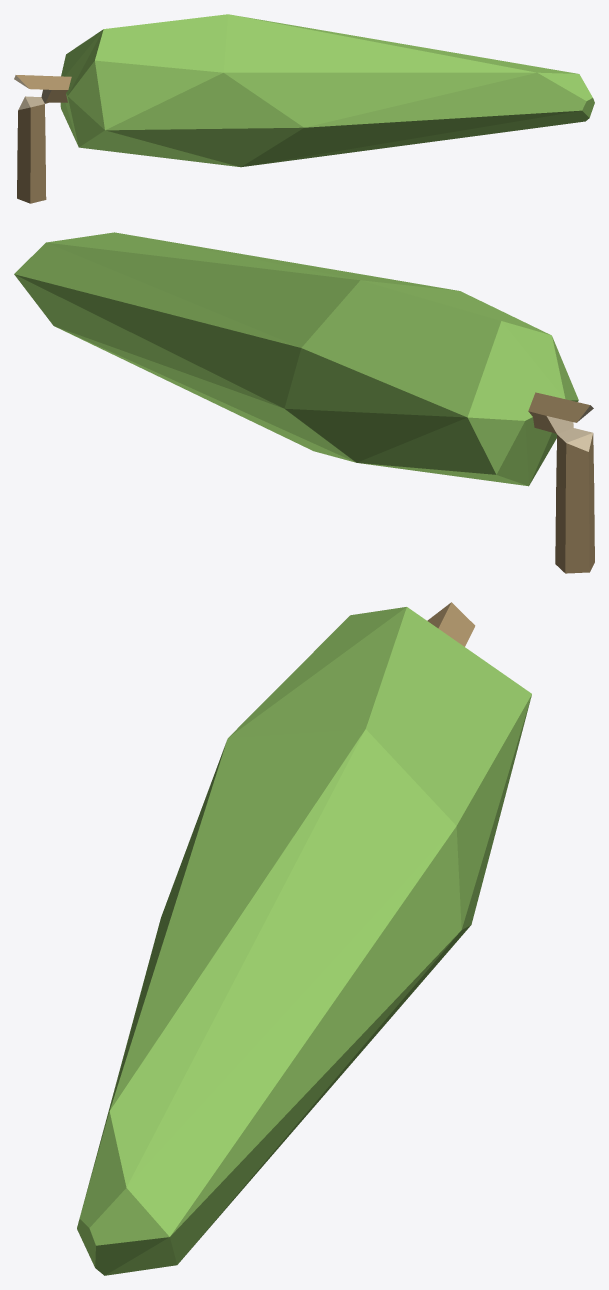
File: Thuja_Tree_crk_m_BT_02.fbx
3 renders of one model, top to bottom at view 1: azimuth 30°, elevation 25°; view 2: azimuth 150°, elevation 25°; view 3: azimuth 270°, elevation 25°, orthographic. The views are drawn at different scales.
Parts seen in each view (by area): view 1: Thuja_Tree_crk_m_BT_02; view 2: Thuja_Tree_crk_m_BT_02; view 3: Thuja_Tree_crk_m_BT_02.
Boxes of the visible parts, <box> form: Thuja_Tree_crk_m_BT_02: <box>14,14,594,203</box>; Thuja_Tree_crk_m_BT_02: <box>14,232,594,573</box>; Thuja_Tree_crk_m_BT_02: <box>77,602,531,1275</box>.
Size of the model in its own units: 412 by 126 by 164.
